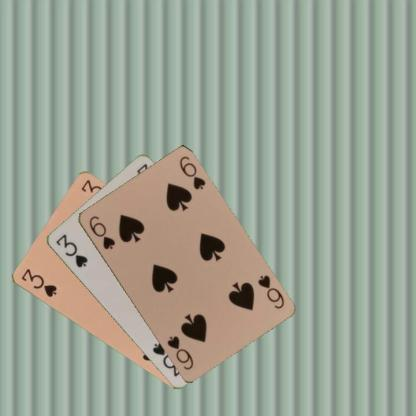3s: (53, 231, 89, 269), (18, 266, 58, 298)
6s: (254, 272, 286, 310), (86, 212, 116, 250)
